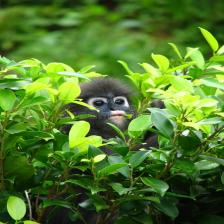monkey: (48, 78, 168, 160)
